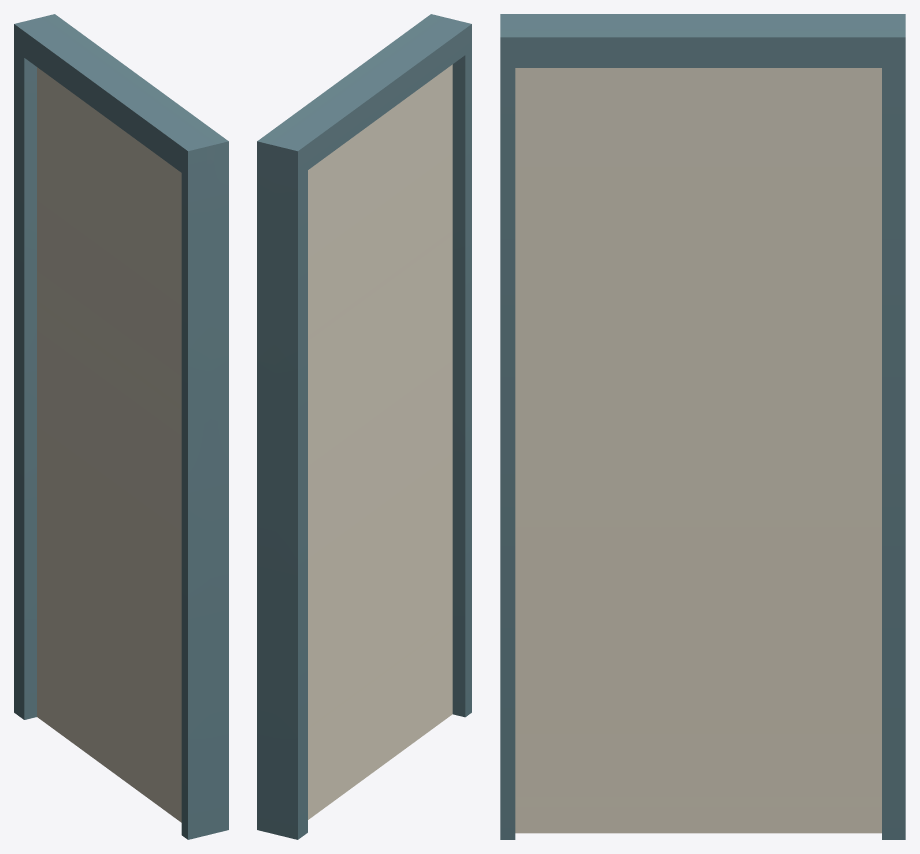
Rendered from door-big-part2.glb.
3 renders of one model, left to right at view 1: azimuth 30°, elevation 25°; view 2: azimuth 150°, elevation 25°; view 3: azimuth 270°, elevation 25°, orthographic. The views are drawn at different scales.
Visible parts, largest first — view 1: DoorBigPart2.001; view 2: DoorBigPart2.001; view 3: DoorBigPart2.001.
Boxes of the visible parts, bbox=[...] form: DoorBigPart2.001: bbox=[14, 14, 228, 839]; DoorBigPart2.001: bbox=[257, 14, 471, 839]; DoorBigPart2.001: bbox=[500, 14, 905, 839].
Size of the model in its own units: 0.1058 by 1.71 by 0.782.
Materials: 1 (1 with a texture image).
